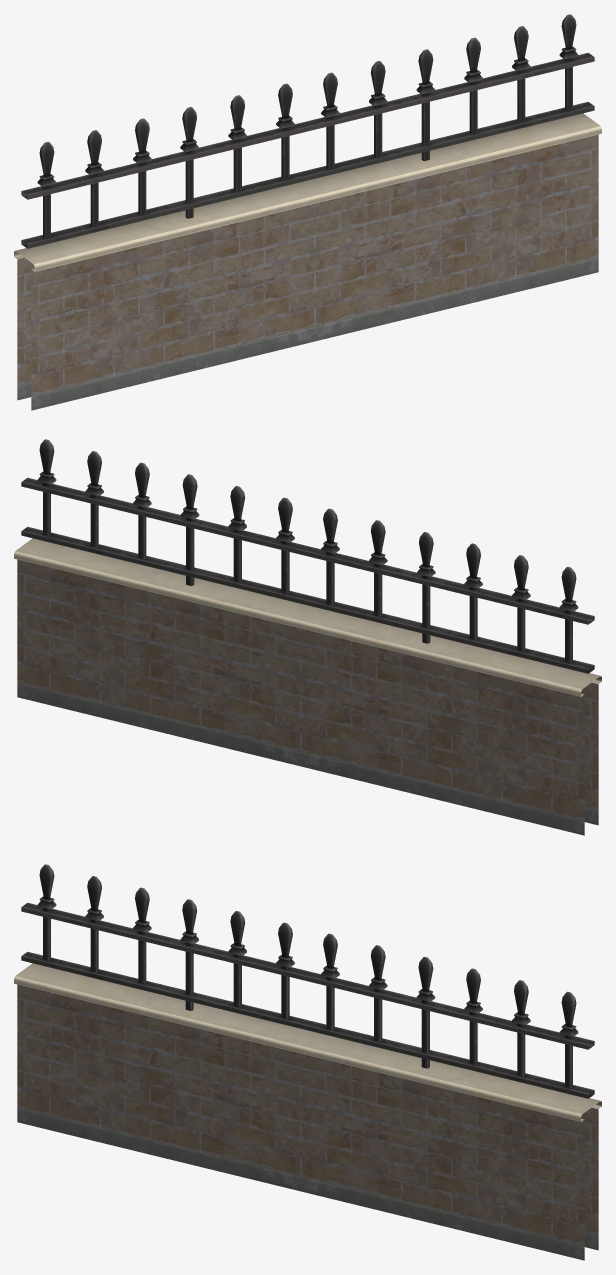
File: StreetFence02_A3.FBX
3 renders of one model, top to bottom at view 1: azimuth 30°, elevation 25°; view 2: azimuth 150°, elevation 25°; view 3: azimuth 330°, elevation 25°, orthographic.
Visible parts, largest first — view 1: StreetFence02_A3; view 2: StreetFence02_A3; view 3: StreetFence02_A3.
Part boxes in pixels (bbox=[...]): StreetFence02_A3: bbox=[14, 14, 601, 410]; StreetFence02_A3: bbox=[14, 439, 601, 835]; StreetFence02_A3: bbox=[14, 864, 601, 1260].
Size of what is drawn, in the model's own units: 4.2 by 1.83 by 0.2685.
